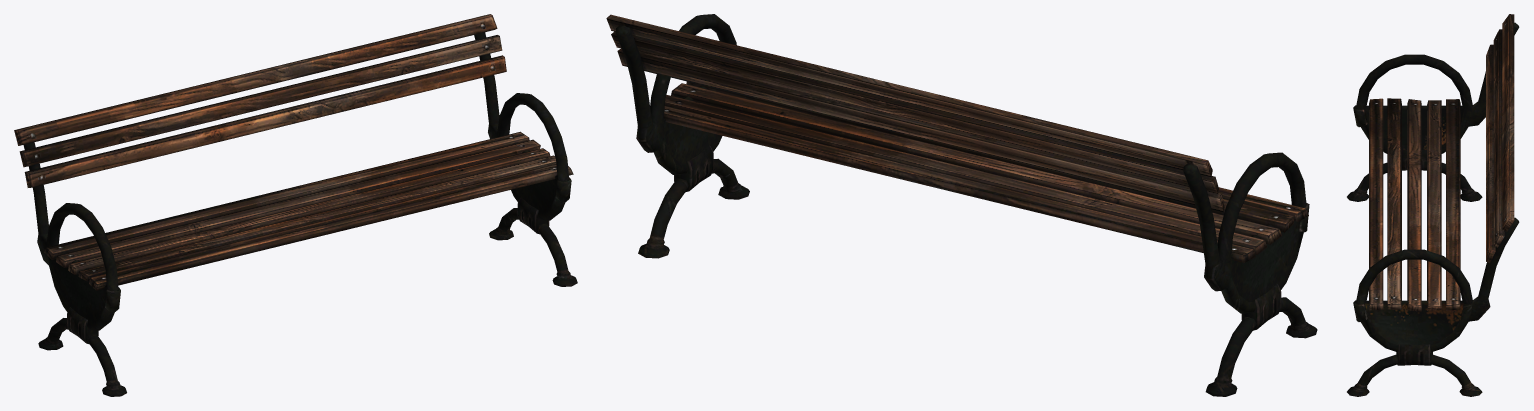
File: banc.obj
The picture shows the model from 3 angles, left to right: view 1: azimuth 30°, elevation 25°; view 2: azimuth 150°, elevation 25°; view 3: azimuth 270°, elevation 25°; orthographic projection. The views are drawn at different scales.
Visible parts, largest first — view 1: ParkBench; view 2: ParkBench; view 3: ParkBench.
Boxes of the visible parts, x1=… form: ParkBench: x1=14, y1=14, x2=577, y2=396; ParkBench: x1=606, y1=14, x2=1317, y2=396; ParkBench: x1=1347, y1=14, x2=1519, y2=396.
Bounding box in the file's own units: 5.19 × 2.08 × 1.83.
1 material, 1 textured.
